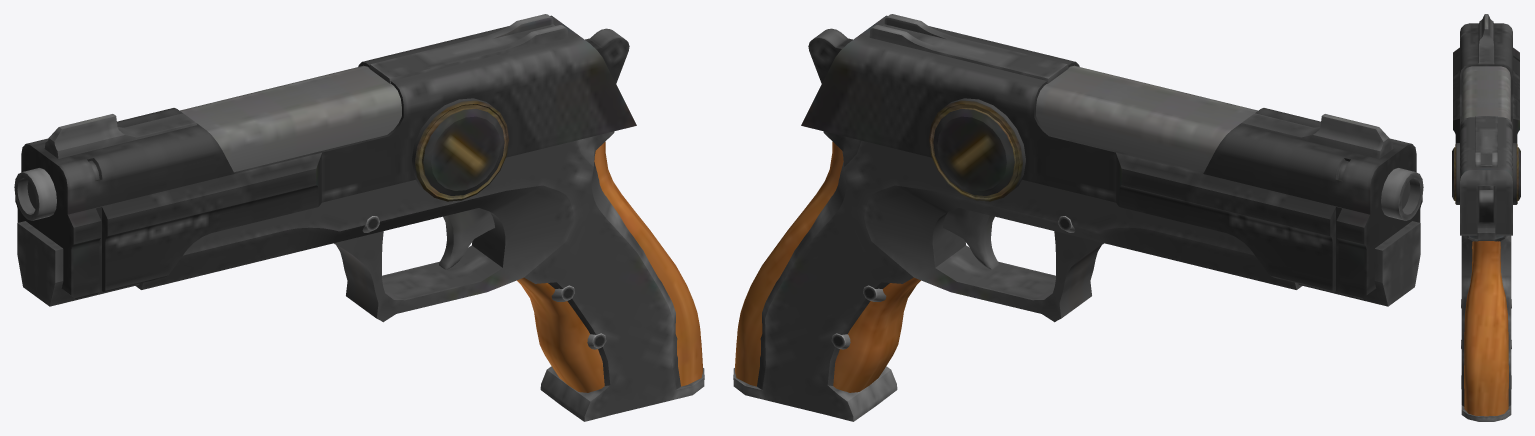
File: pistol.glb
3 renders of one model, left to right at view 1: azimuth 30°, elevation 25°; view 2: azimuth 150°, elevation 25°; view 3: azimuth 270°, elevation 25°, orthographic. The views are drawn at different scales.
Parts seen in each view (by area): view 1: Gun_Pistol; view 2: Gun_Pistol; view 3: Gun_Pistol.
Part boxes in pixels (box(x1,y1,x2,y2)): Gun_Pistol: box(14, 14, 704, 421); Gun_Pistol: box(733, 14, 1423, 421); Gun_Pistol: box(1452, 14, 1520, 421).
Bounding box in the file's own units: 0.4425 × 0.2523 × 0.0685.
1 material, 1 textured.
